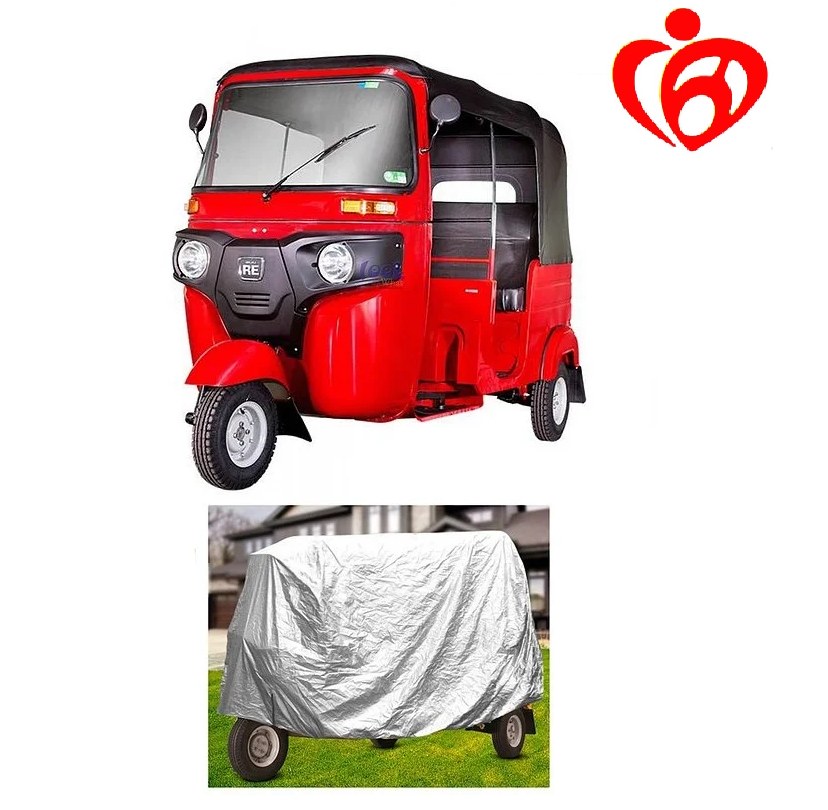threewheel: (174, 54, 587, 488)
